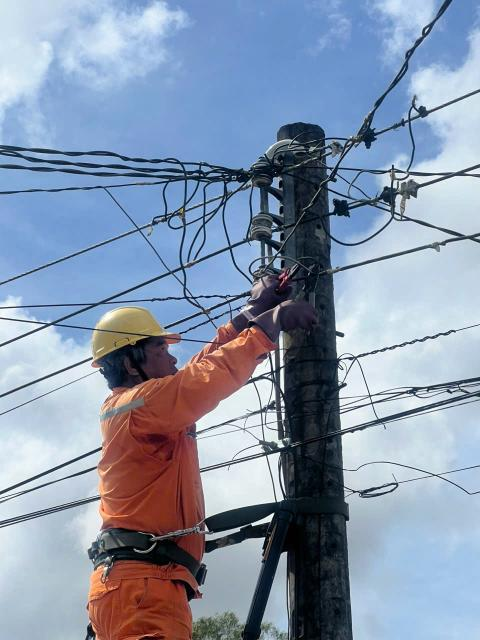gloves: (225, 263, 289, 330), (243, 287, 323, 340)
harness: (73, 515, 228, 595)
helmet: (67, 292, 191, 366)
